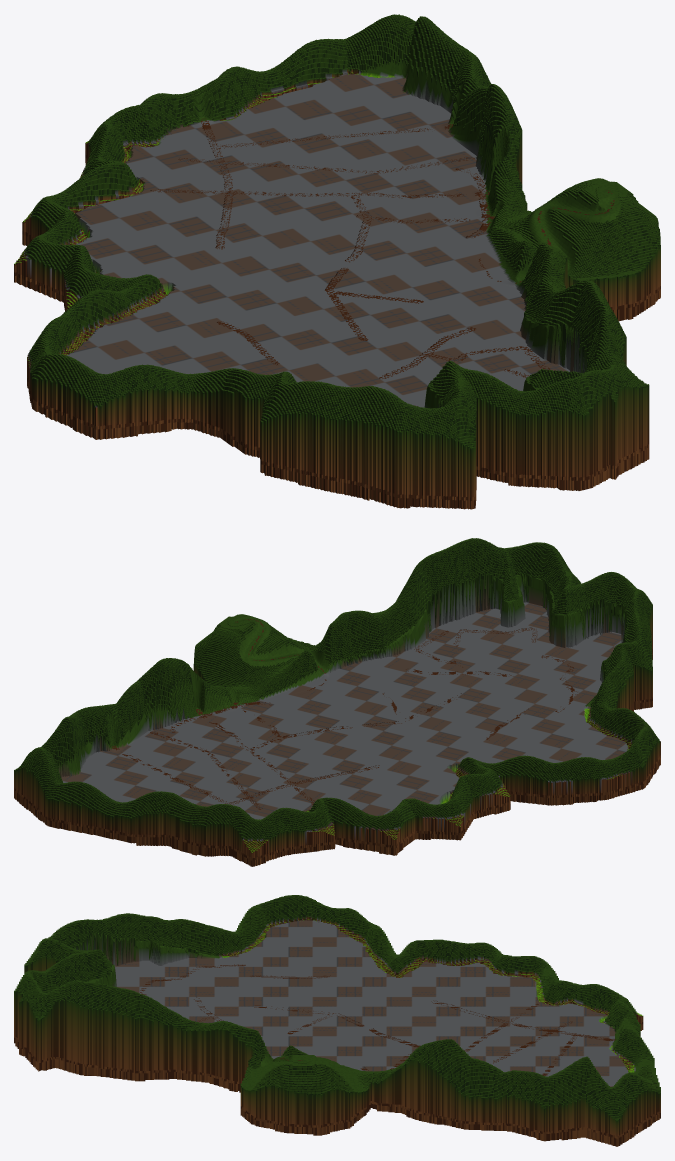
The model's file is SM_Mapa_081.fbx.
The picture shows the model from 3 angles, top to bottom: view 1: azimuth 30°, elevation 25°; view 2: azimuth 150°, elevation 25°; view 3: azimuth 270°, elevation 25°; orthographic projection. The views are drawn at different scales.
Visible parts, largest first — view 1: TerrainExport; view 2: TerrainExport; view 3: TerrainExport.
Part boxes in pixels (box(x1,y1,x2,y2)): TerrainExport: box(14, 14, 660, 509); TerrainExport: box(14, 538, 660, 866); TerrainExport: box(14, 895, 660, 1146).
Bounding box in the file's own units: 4776 × 6096 × 915.
